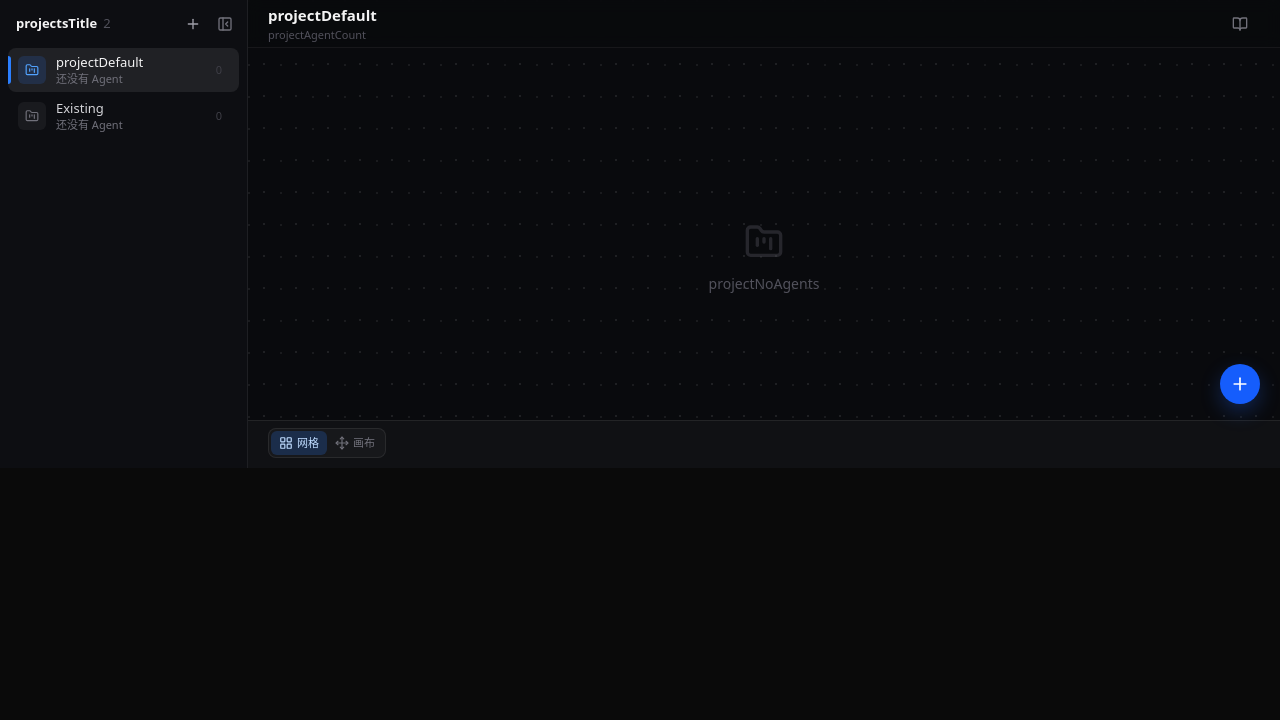
Test: <ProjectsPanel /> project creation › keeps the modal open and explains duplicate names
Expected: the text "projectDefault" is shown, [56,54,143,70]
Click the button named "projectCreate": (193, 24) [179,10,207,38]
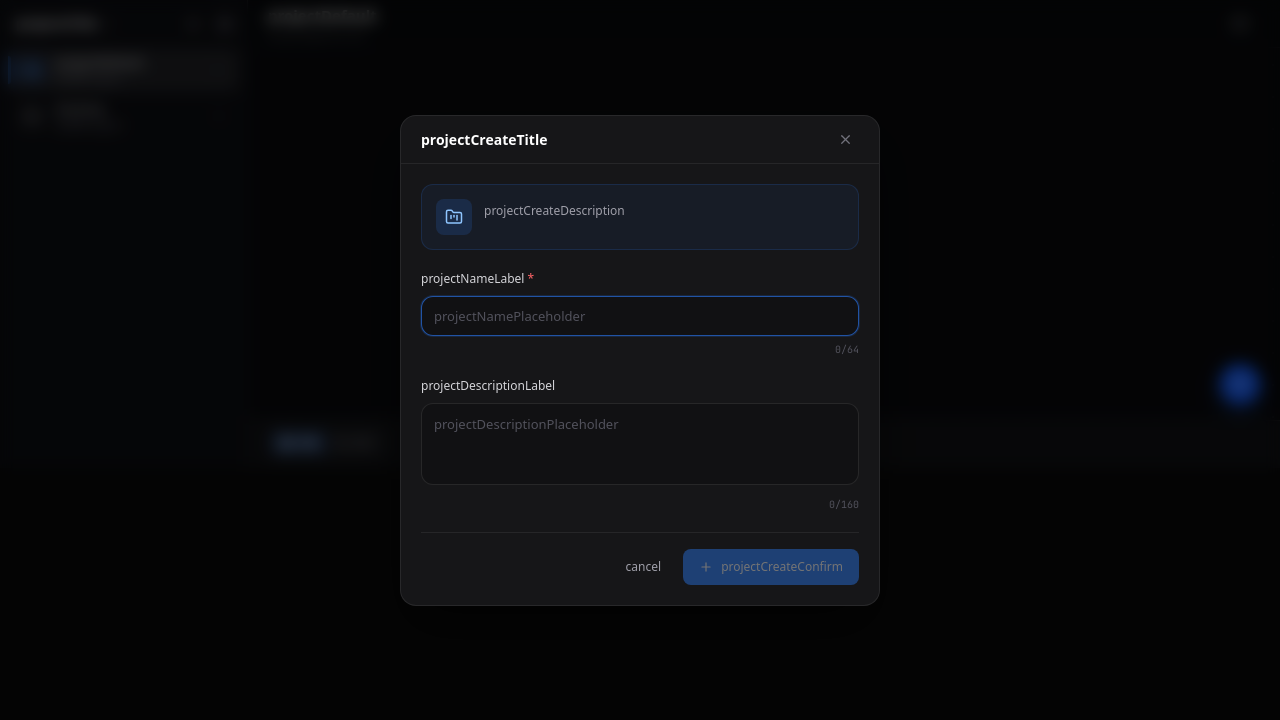
In the field labelled "projectNameLabel * 0/64": (640, 316) [421,296,859,336], type " existing "
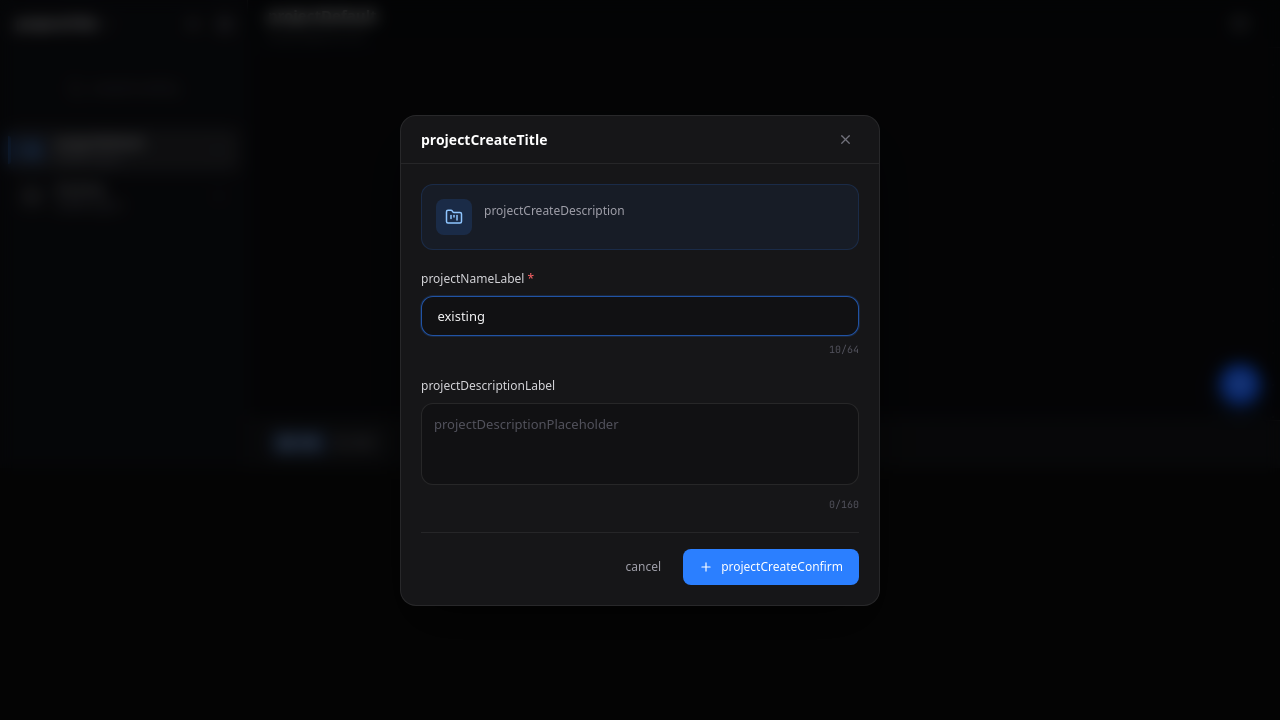
Press Enter in the field labelled "projectNameLabel * 10/64", box [421,296,859,336]
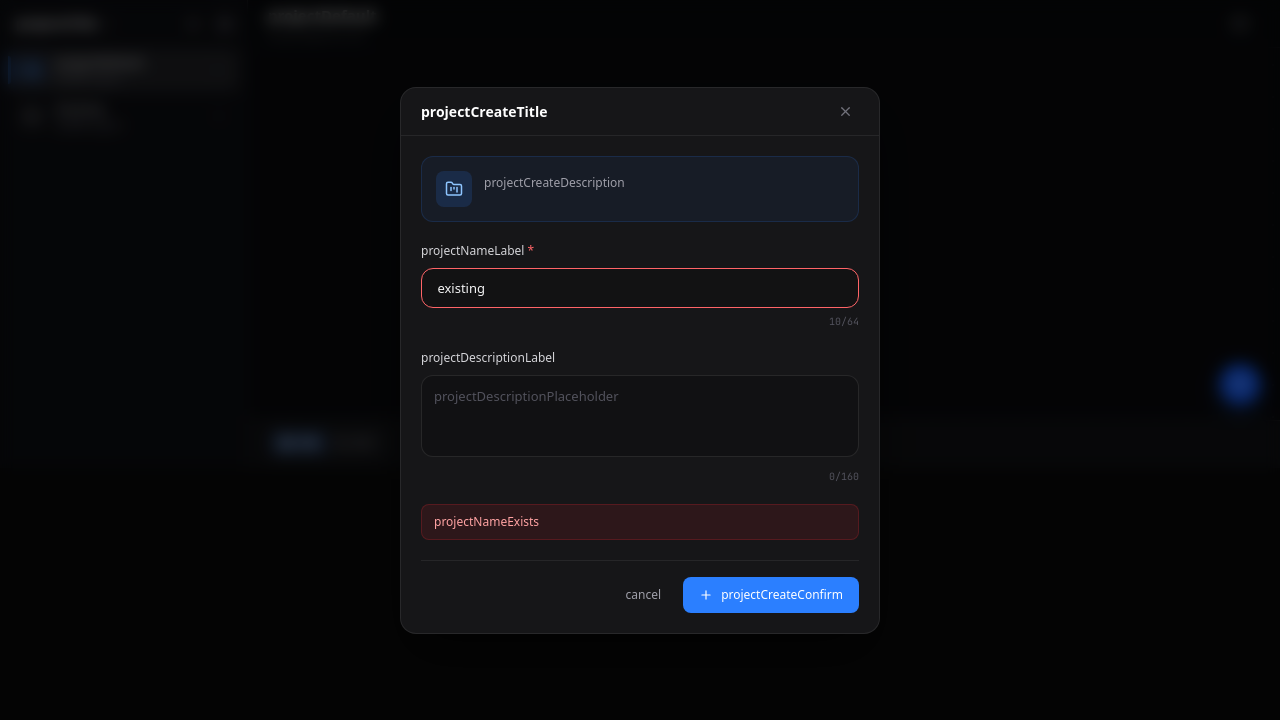
Expected: the element that starts with "projectCreateDescription" is shown, [421,156,859,612]
Expected: the text "projectNameExists" is shown, [421,504,859,540]
